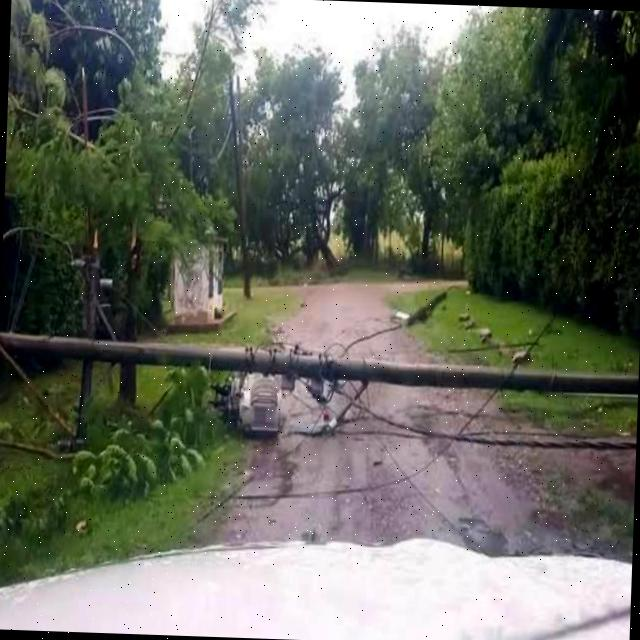Broken Pole: (6, 220, 636, 463)
